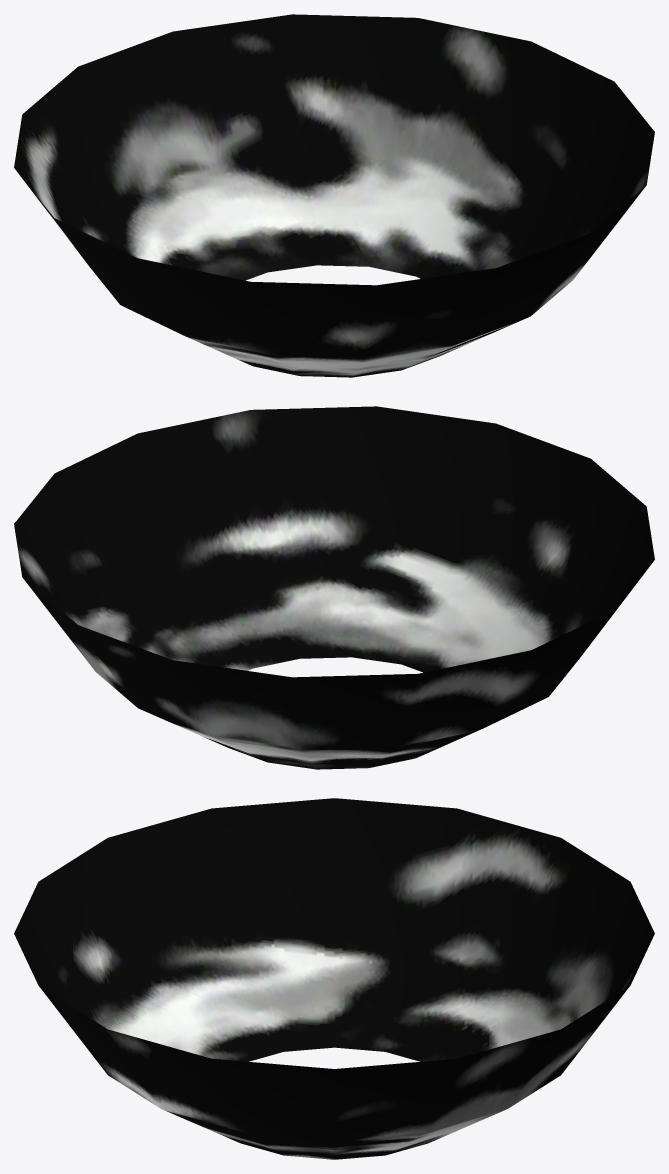
3 renders of one model, top to bottom at view 1: azimuth 30°, elevation 25°; view 2: azimuth 150°, elevation 25°; view 3: azimuth 270°, elevation 25°, orthographic.
Visible parts, largest first — view 1: Sphere001; view 2: Sphere001; view 3: Sphere001.
Boxes of the visible parts, x1,y1,x2,y2 form: Sphere001: [14, 14, 654, 377]; Sphere001: [14, 406, 654, 769]; Sphere001: [14, 798, 654, 1159].
Size of the model in its own units: 4.96 by 1.45 by 4.96.
1 material, 1 textured.
